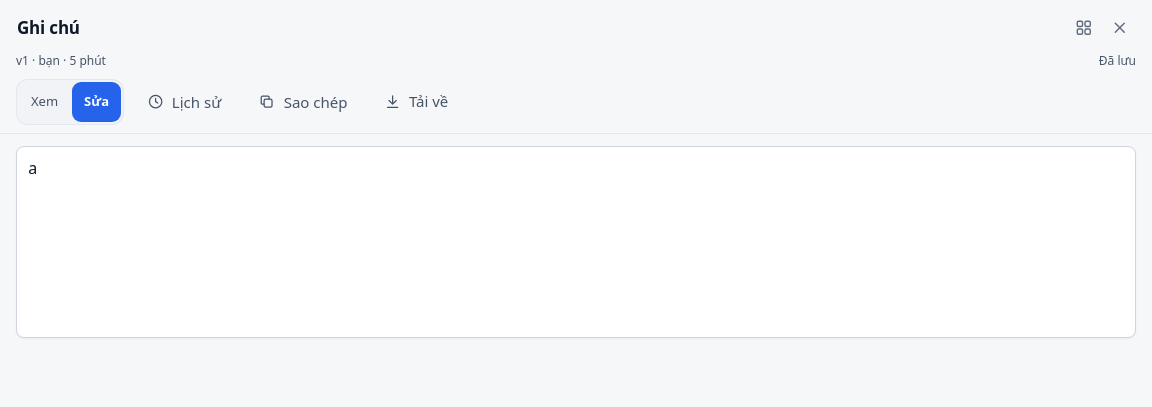
Scenario: the name › says why a rename refused with 422 failed, until a rename lands
Click the button "Ghi chú" at [48, 28], box [8,12,89,44]
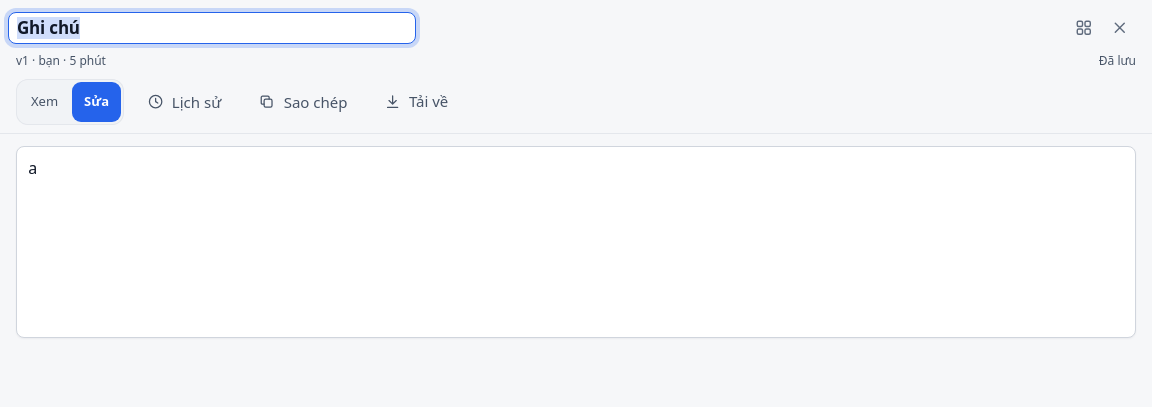
Replace the text in the field named "Tên canvas" with "Kế hoạch" at [212, 28], box [8,12,416,44]
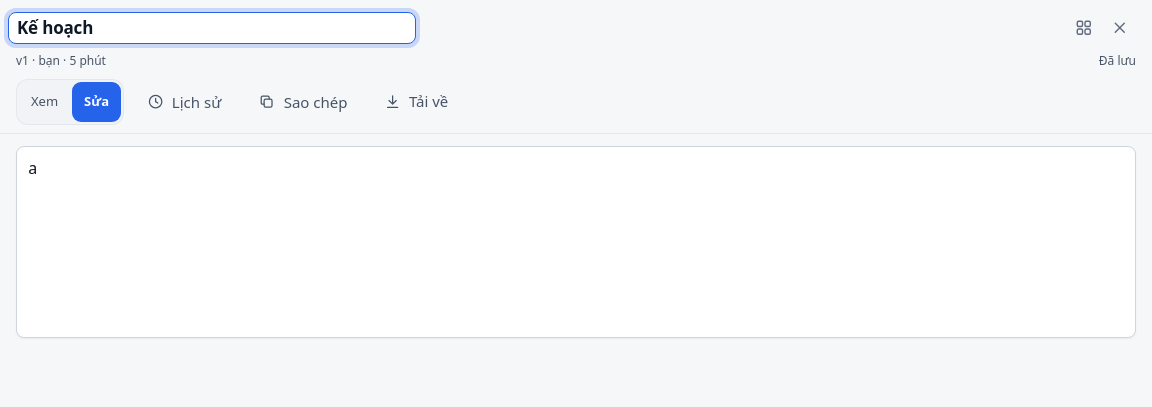
Press Enter in the field named "Tên canvas", box [8,12,416,44]
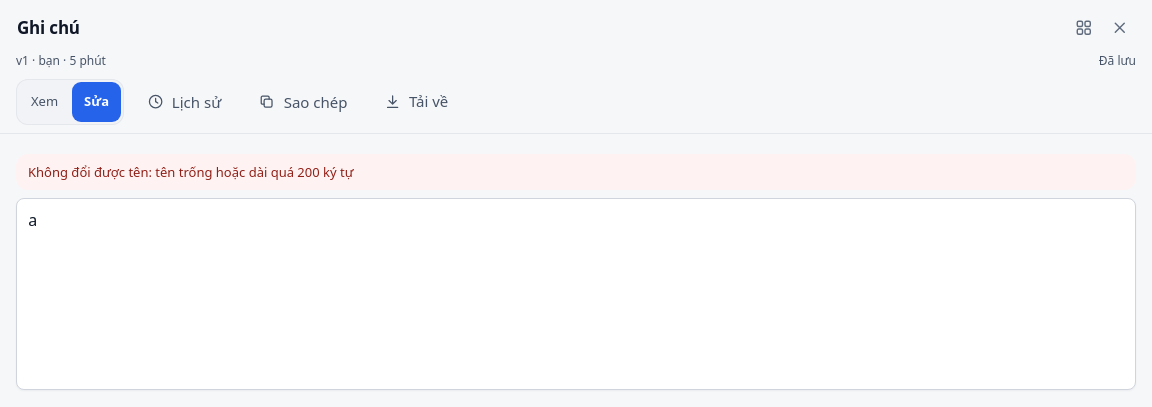
Now the message "Không đổi được tên: tên trống hoặc dài quá 200 ký tự" is shown, box [16,154,1136,190]
Now the button "Ghi chú" is shown
Click the button "Ghi chú" at [48, 28], box [8,12,89,44]
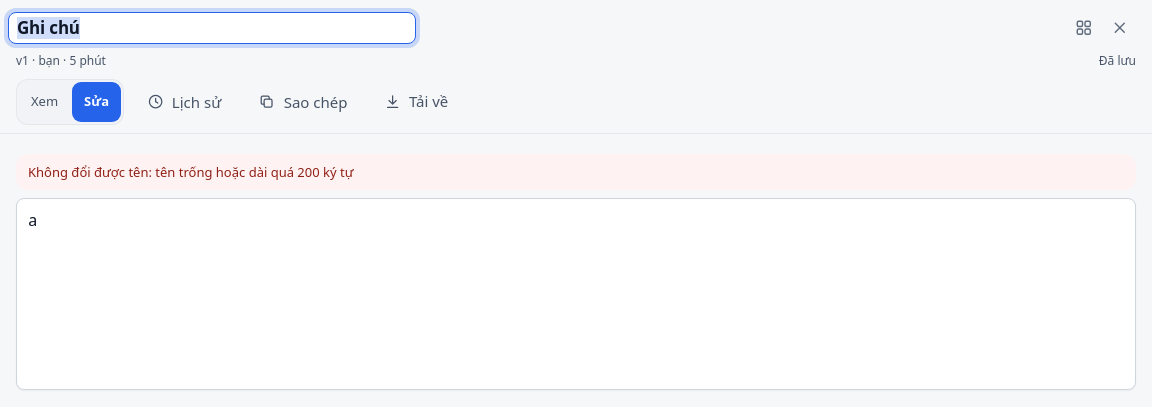
Replace the text in the field named "Tên canvas" with "Kế hoạch" at [212, 28], box [8,12,416,44]
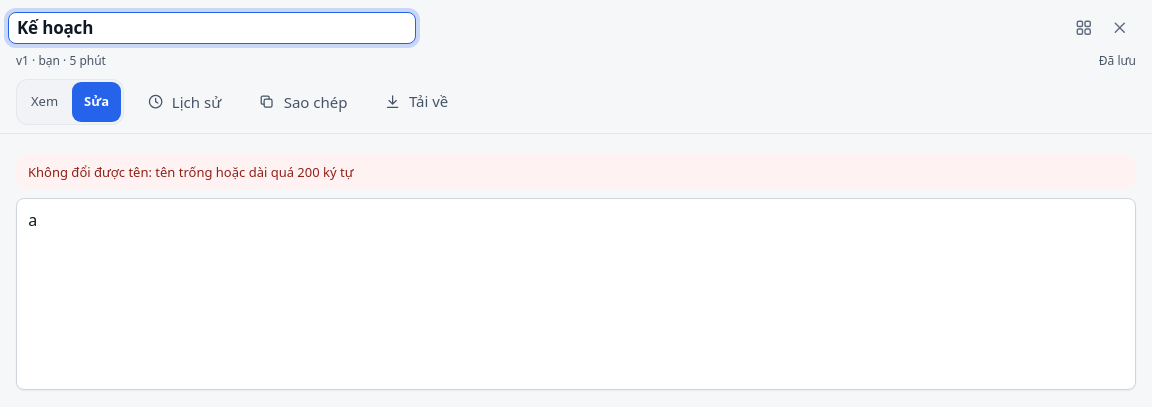
Press Enter in the field named "Tên canvas", box [8,12,416,44]
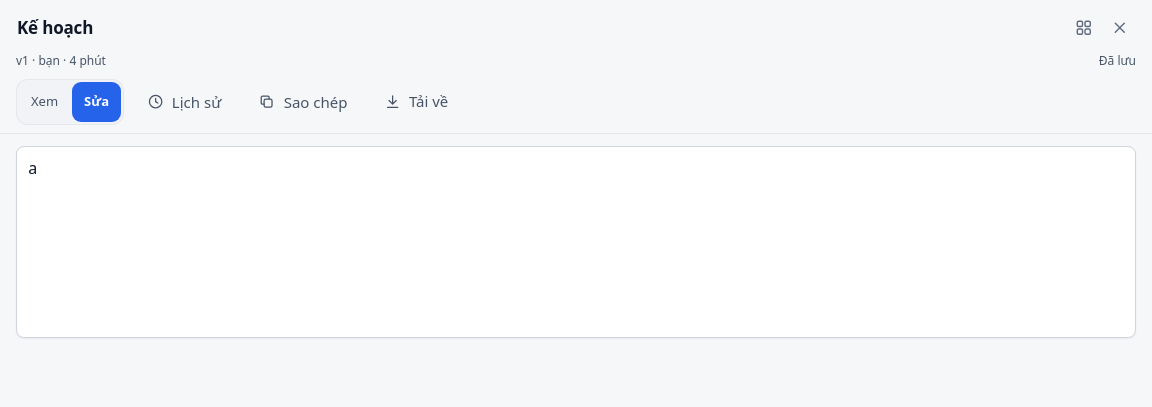
Now the message "Không đổi được tên: tên trống hoặc dài quá 200 ký tự" is gone
Now the button "Kế hoạch" is shown, box [8,12,102,44]
